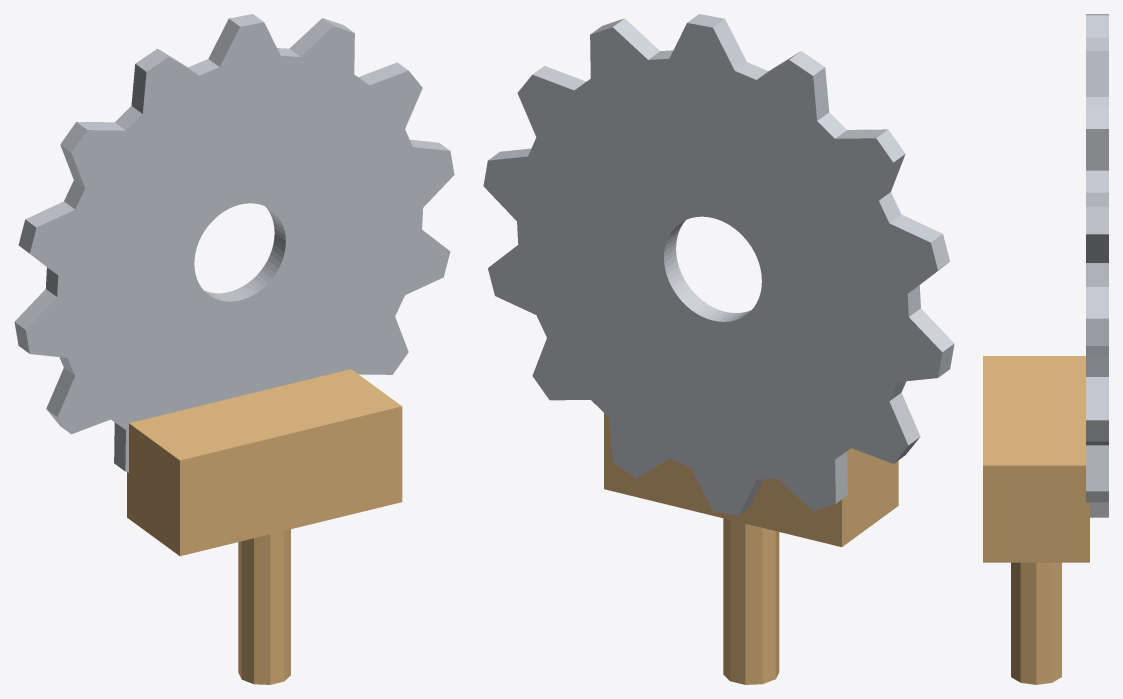
File: station4_wood_shop.glb
The picture shows the model from 3 angles, left to right: view 1: azimuth 30°, elevation 25°; view 2: azimuth 150°, elevation 25°; view 3: azimuth 270°, elevation 25°; orthographic projection. The views are drawn at different scales.
Parts seen in each view (by area): view 1: StationArtifact; view 2: StationArtifact; view 3: StationArtifact.
Part boxes in pixels (box(x1,y1,x2,y2)): StationArtifact: box(14, 14, 454, 684); StationArtifact: box(483, 14, 954, 684); StationArtifact: box(983, 14, 1108, 684).
Size of the model in its own units: 0.6559 by 0.92 by 0.165.
